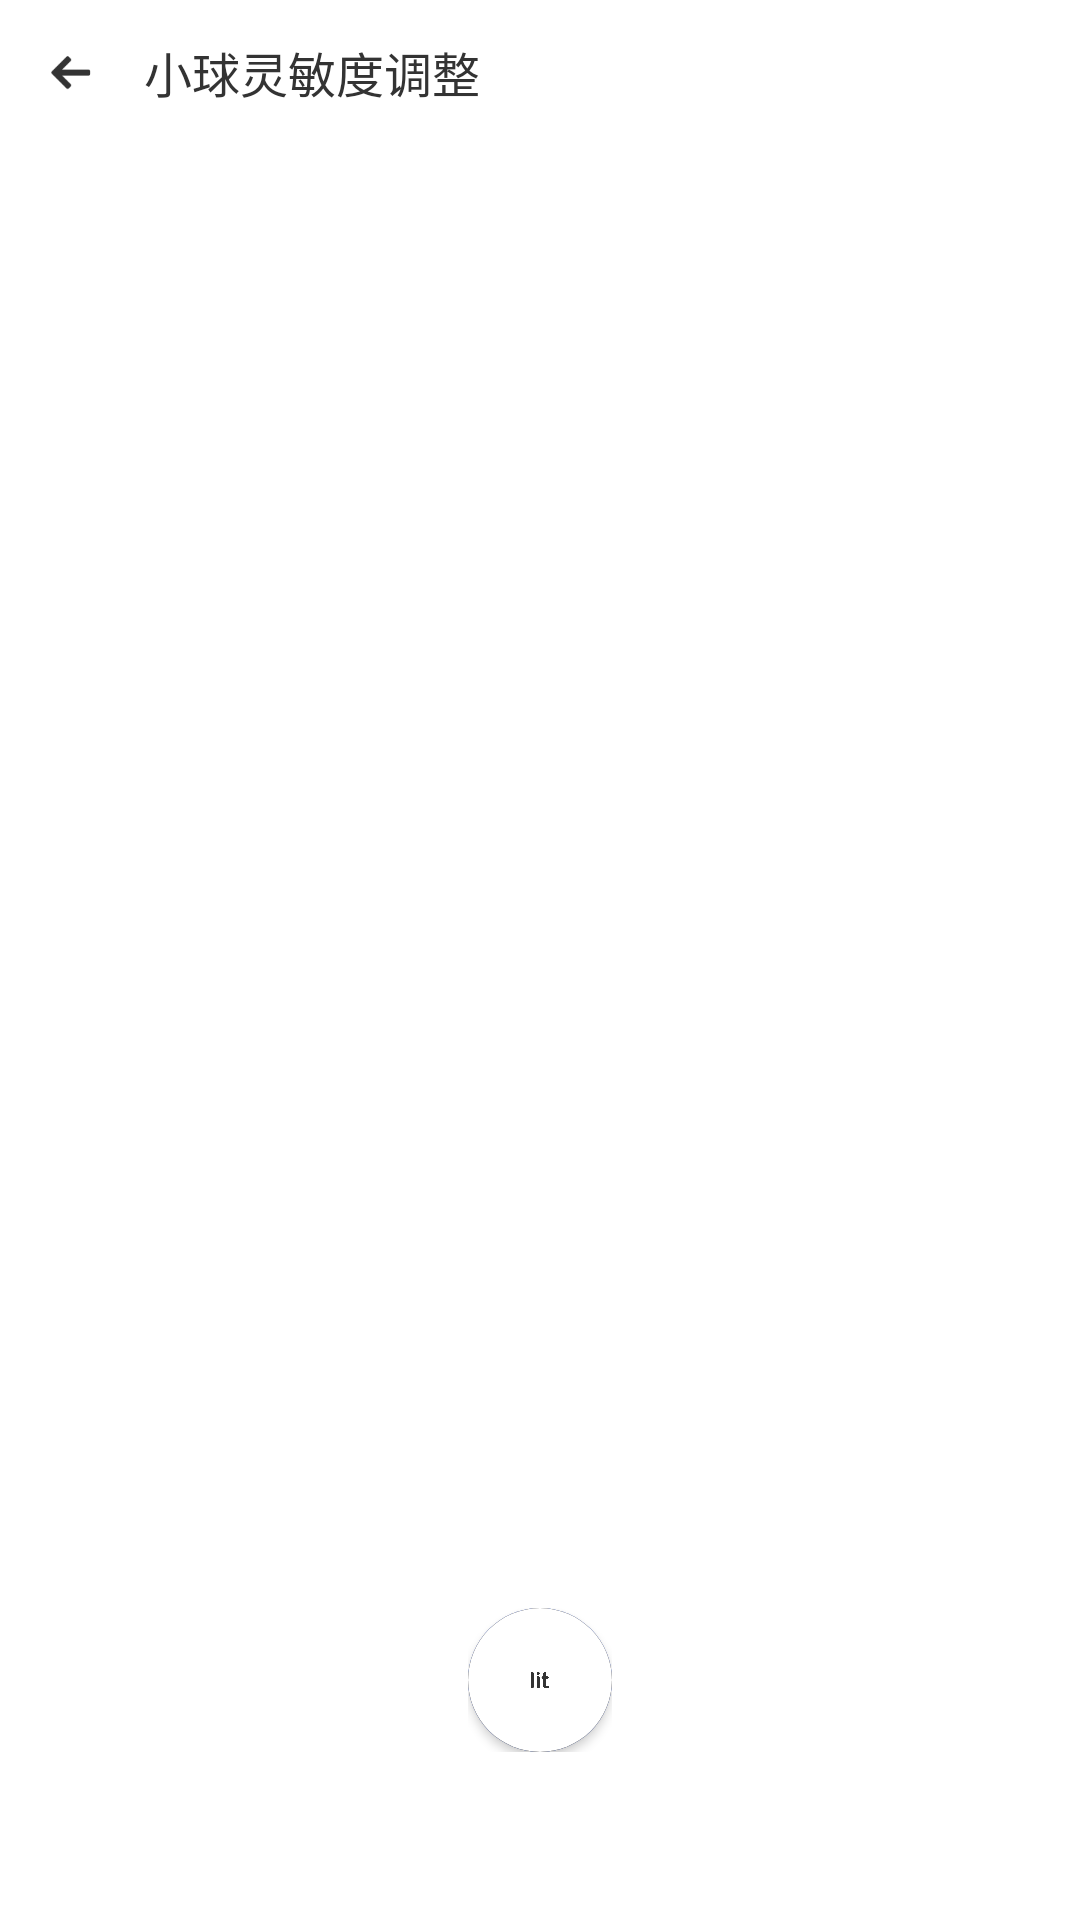

Locate icon controls on the screen. Image size 1080×1920, boxes as (x1, y1, x2, y2).
back: (51, 56, 91, 89)
